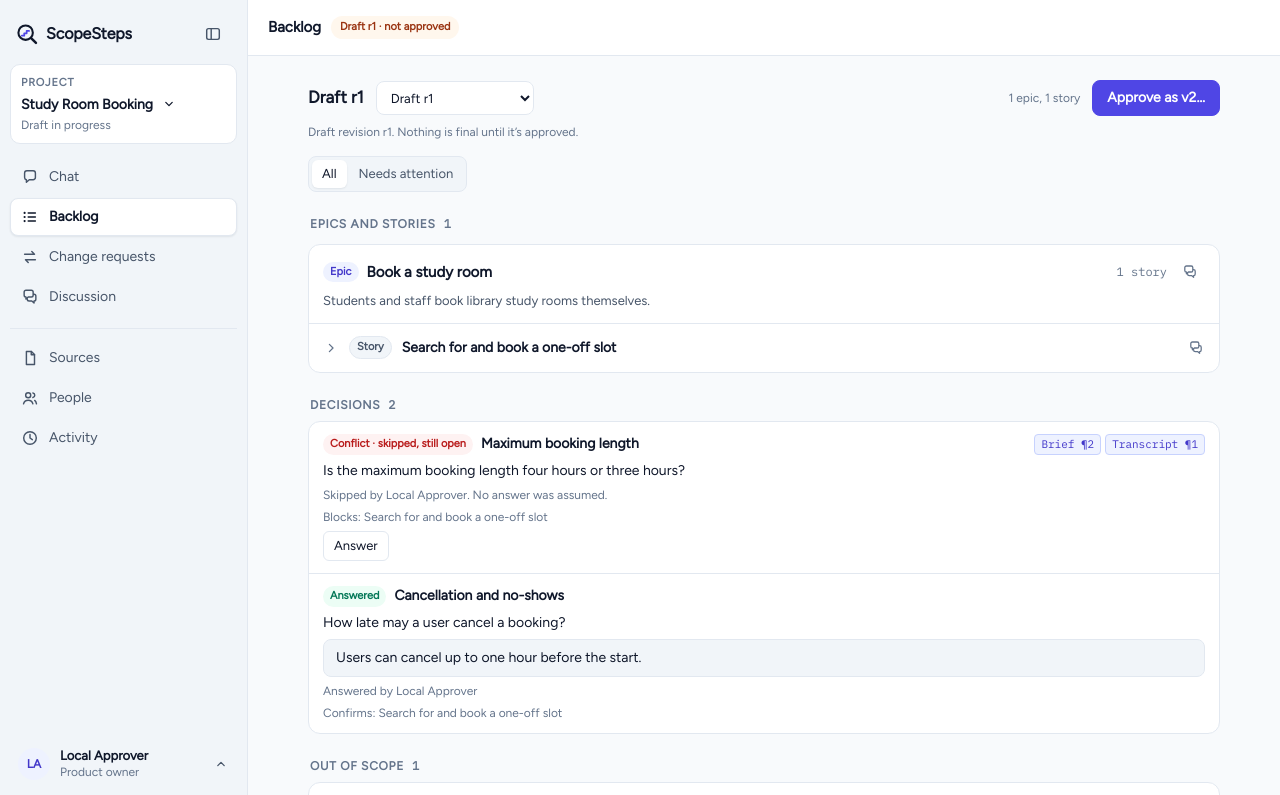
Approving a draft › switches between the draft in progress and the current baseline
Expected: the button "Approve as v2…" is shown, 1092,80 -> 1220,116
Select "v1 · current baseline" in the dropdown named "Version" at (455,98), box 376,81 -> 534,115
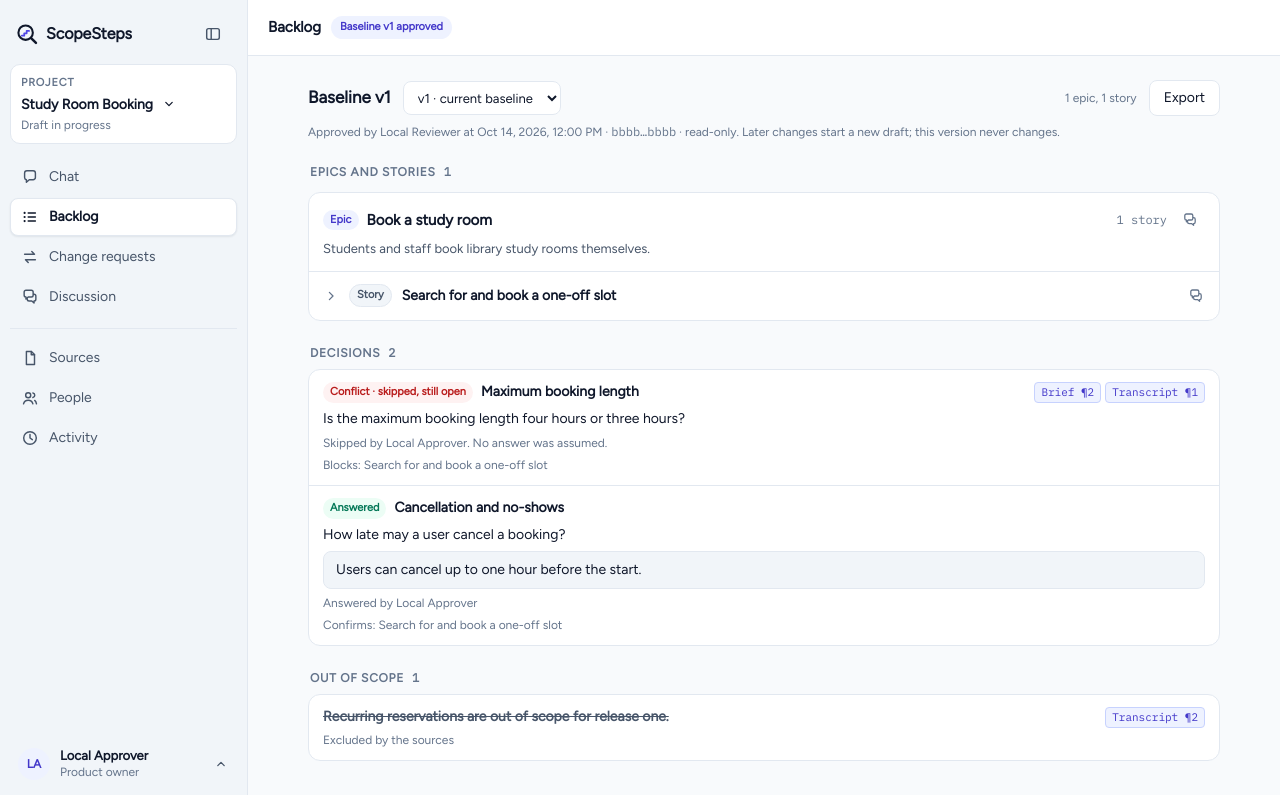
Now the heading "Baseline v1" is shown, box 308,85 -> 391,111
